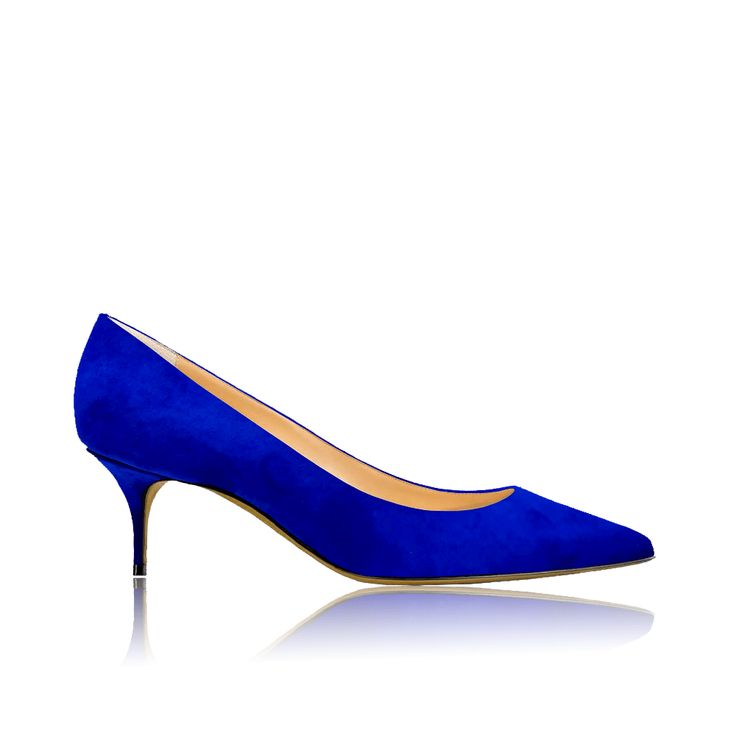gamuza: (74, 313, 654, 580)
